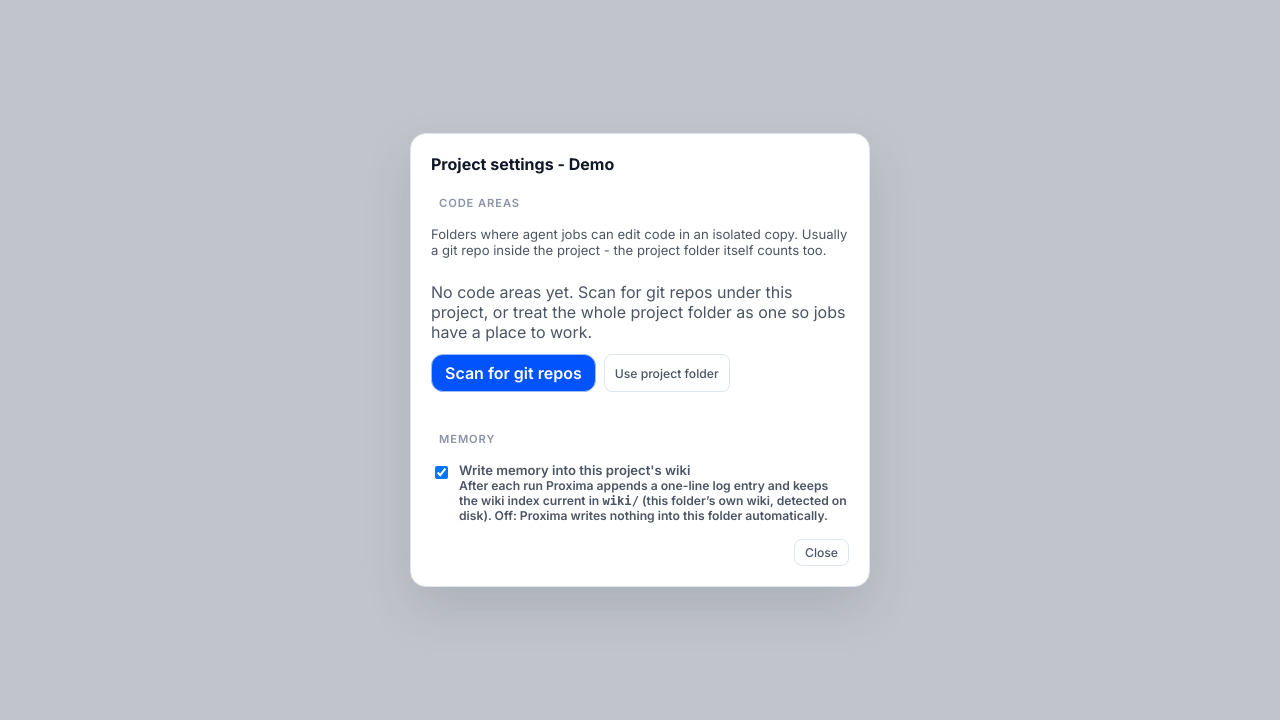
Test: ContainerSettingsModal › scan can discover a nested repo from the empty state
Click the button "Scan for git repos".
click(513, 373)  # box [431,354,596,392]
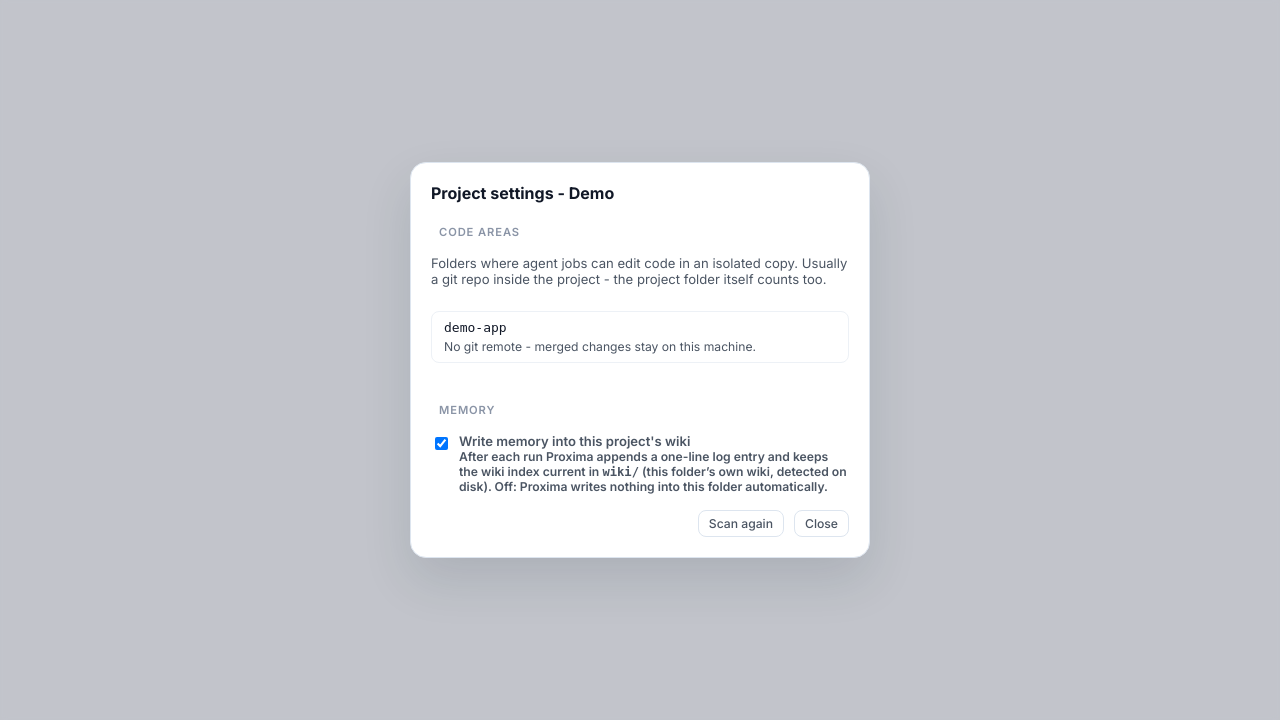
Now the text "demo-app" is shown, box [444,320,507,335]
Now the button "Scan again" is shown, box [698,510,784,537]
